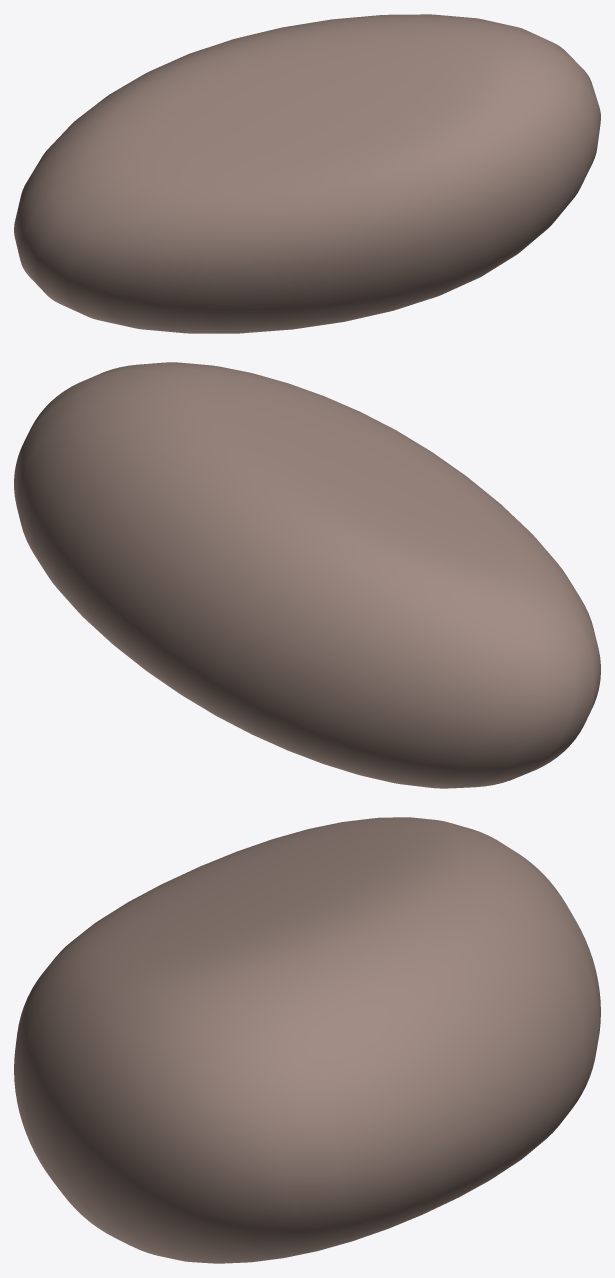
Rendered from Piedra1B.fbx.
3 renders of one model, top to bottom at view 1: azimuth 30°, elevation 25°; view 2: azimuth 150°, elevation 25°; view 3: azimuth 270°, elevation 25°, orthographic. The views are drawn at different scales.
Parts seen in each view (by area): view 1: Circle.006; view 2: Circle.006; view 3: Circle.006.
Boxes of the visible parts, bbox=[...] form: Circle.006: bbox=[14, 14, 600, 333]; Circle.006: bbox=[14, 362, 600, 788]; Circle.006: bbox=[14, 817, 600, 1263].
Bounding box in the file's own units: 178 × 78.87 × 118.
